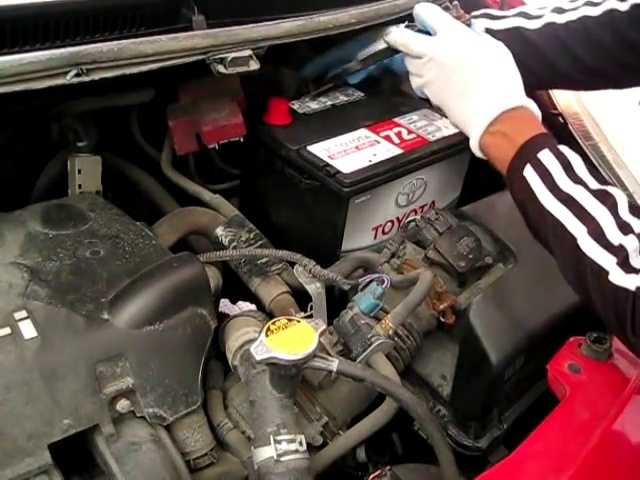battery: (253, 73, 476, 177)
pos_disconnected: (181, 83, 309, 157)
